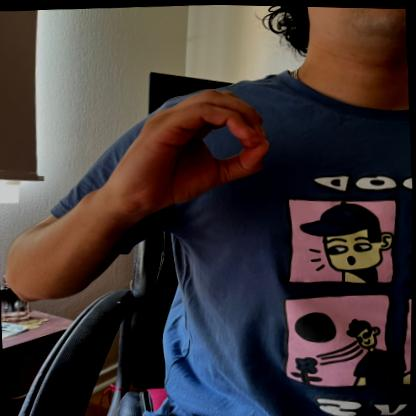O: (115, 81, 279, 211)
